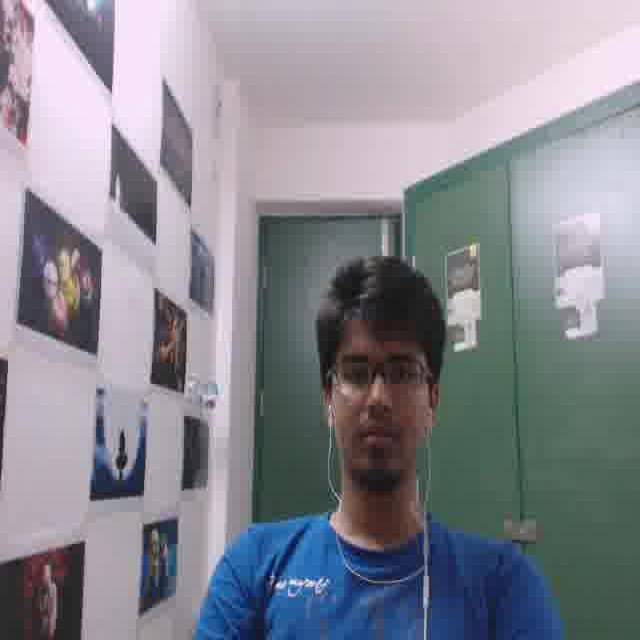Boredom: (331, 315, 426, 473)
